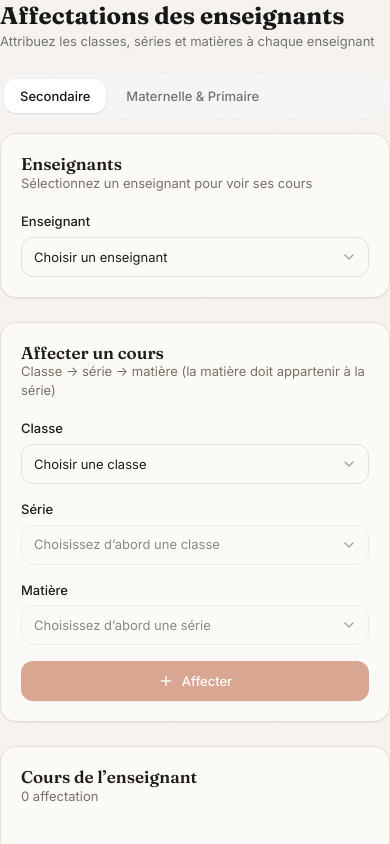
Scenario: AffectationsPage — Maternelle & Primaire › liste les enseignants M/P avec leur classe actuelle
The width and height of the screenshot is (390, 844).
Click the button "Maternelle & Primaire".
click(193, 96)  # box [110,79,275,113]
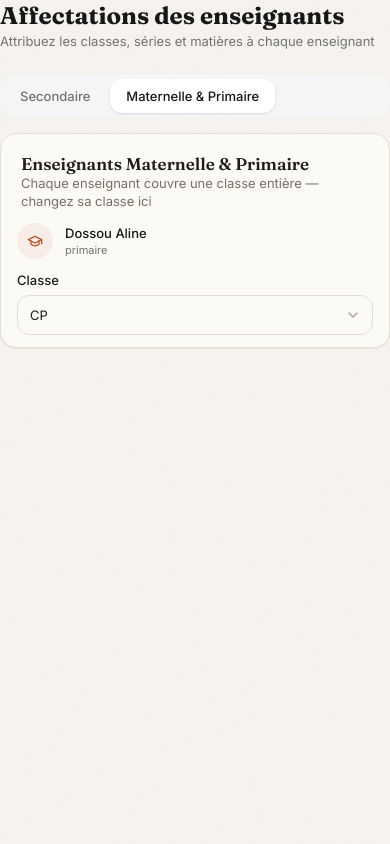
Result: the text "Dossou Aline" is shown at [65,224,147,243]
